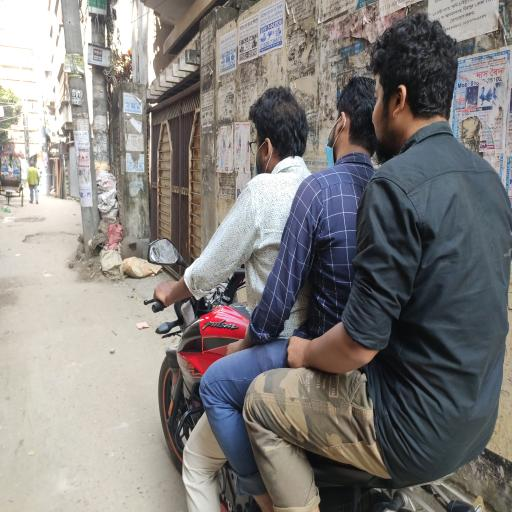helmet: (324, 113, 347, 168)
overloading: (146, 12, 509, 508)
